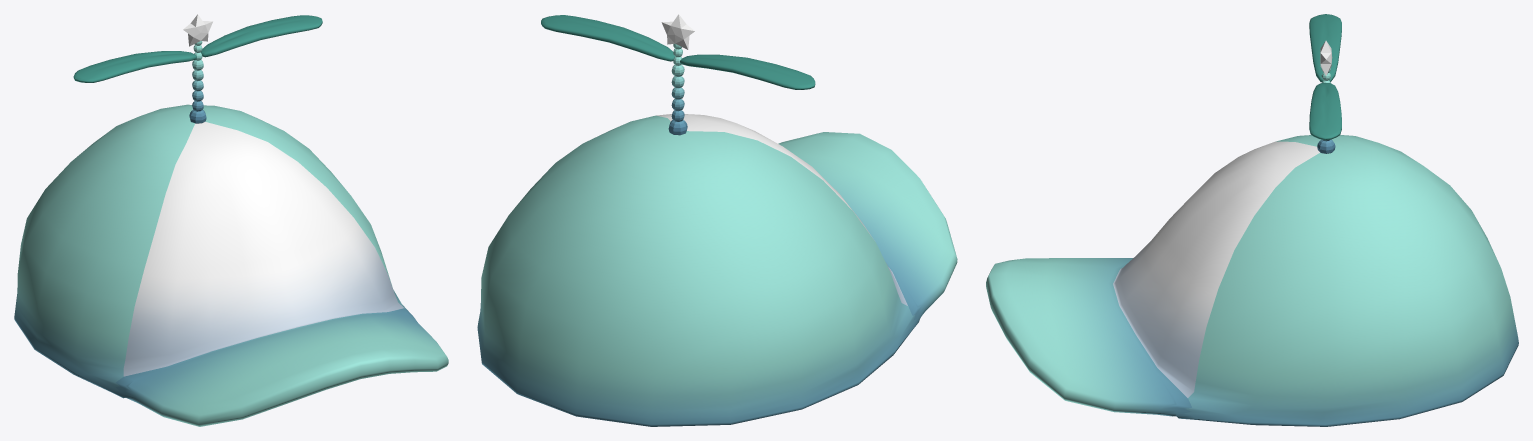
Rendered from HAT_propellercap.fbx.
The picture shows the model from 3 angles, left to right: view 1: azimuth 30°, elevation 25°; view 2: azimuth 150°, elevation 25°; view 3: azimuth 270°, elevation 25°; orthographic projection. The views are drawn at different scales.
Visible parts, largest first — view 1: propeller_cap1; view 2: propeller_cap1; view 3: propeller_cap1.
Boxes of the visible parts, x1=… form: propeller_cap1: x1=14, y1=14, x2=448, y2=426; propeller_cap1: x1=477, y1=14, x2=957, y2=426; propeller_cap1: x1=986, y1=14, x2=1518, y2=426.
Bounding box in the file's own units: 67.31 × 58.81 × 92.76.
Materials: 1 (1 with a texture image).
